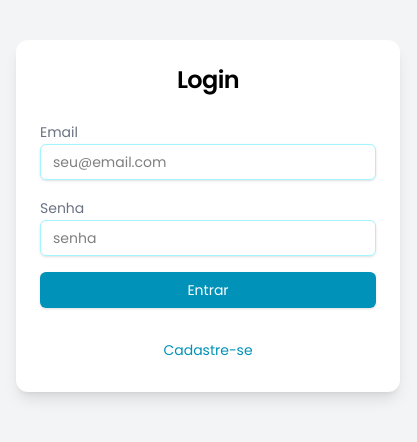
Scenario: LoginPage › should show error message if fields are not properly filled
Click the button "Entrar": (208, 290) 40,272 -> 376,308
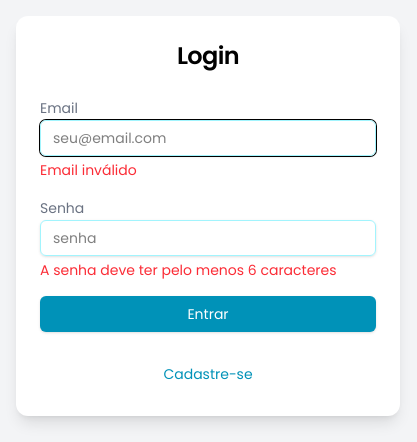
Expected: the text "Email inválido" is shown, 40,160 -> 137,180
Expected: the text "A senha deve ter pelo menos 6 caracteres" is shown, 40,260 -> 376,280
